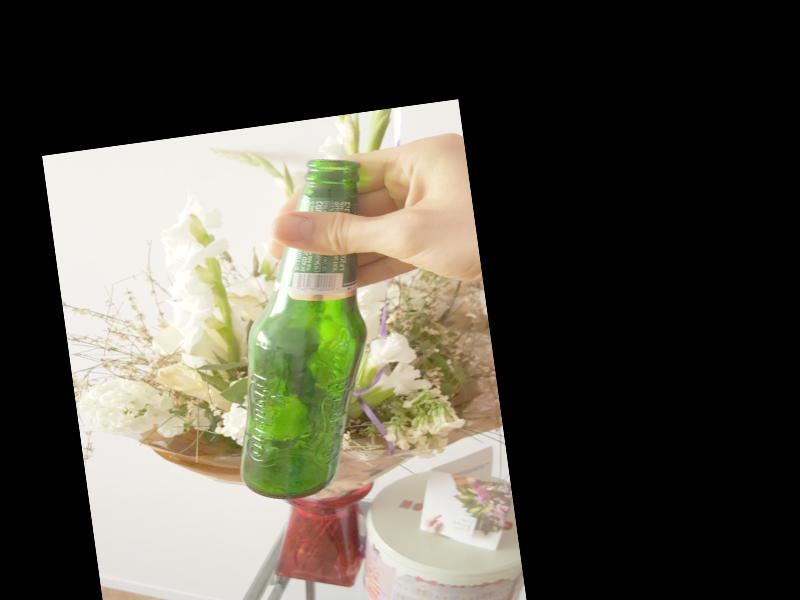Beer: (200, 155, 388, 505)
